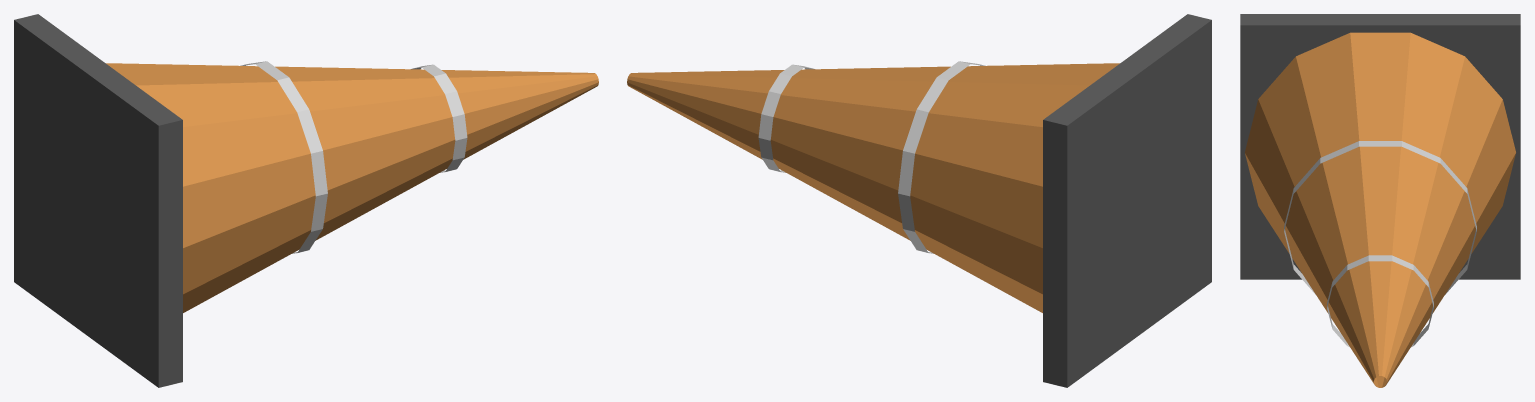
File: traffic-cone.glb
3 views of the same model, side by side, from view 1: azimuth 30°, elevation 25°; view 2: azimuth 150°, elevation 25°; view 3: azimuth 270°, elevation 25° (orthographic). The views are drawn at different scales.
Parts seen in each view (by area): view 1: traffic-cone; view 2: traffic-cone; view 3: traffic-cone.
Part boxes in pixels (<box>): traffic-cone: <box>14,14,598,387</box>; traffic-cone: <box>627,14,1211,387</box>; traffic-cone: <box>1240,14,1520,387</box>.
Bounding box in the file's own units: 15 × 7.38 × 7.38.
